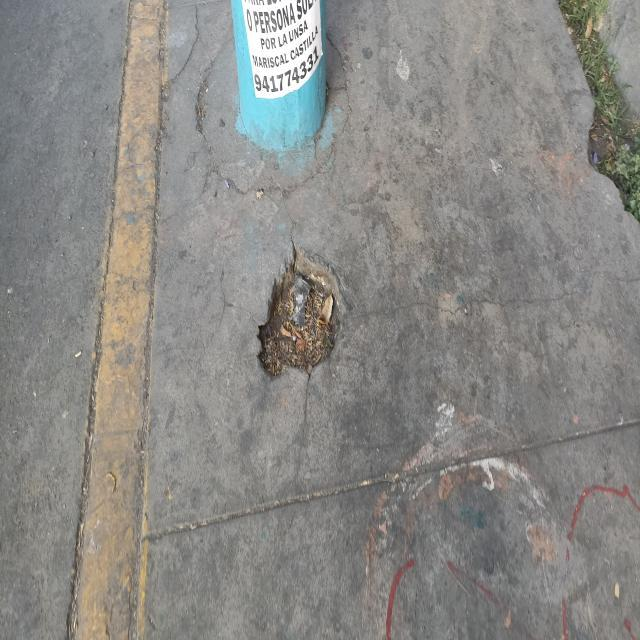hole: (252, 242, 350, 380)
